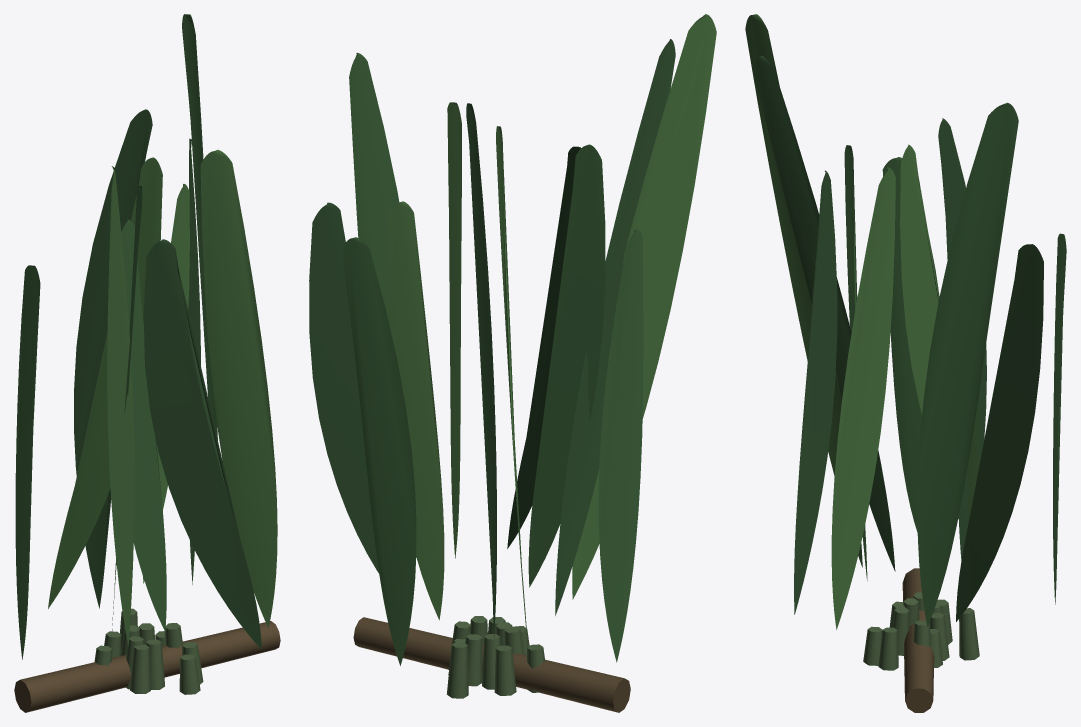
The model's file is plant-javafern-narrow.glb.
The picture shows the model from 3 angles, left to right: view 1: azimuth 30°, elevation 25°; view 2: azimuth 150°, elevation 25°; view 3: azimuth 270°, elevation 25°; orthographic projection. The views are drawn at different scales.
Visible parts, largest first — view 1: plant-javafern-narrow; view 2: plant-javafern-narrow; view 3: plant-javafern-narrow.
Part boxes in pixels (box(x1,y1,x2,y2)): plant-javafern-narrow: box(14, 14, 280, 712); plant-javafern-narrow: box(309, 14, 716, 712); plant-javafern-narrow: box(745, 14, 1066, 712).
Size of the model in its own units: 0.4491 by 1.03 by 0.5057.
